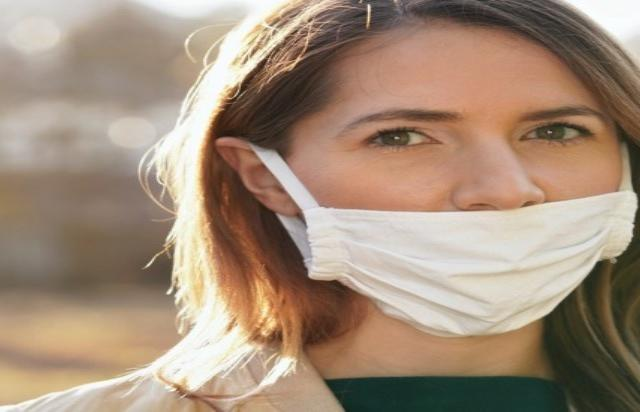mask_weared_incorrect: (173, 1, 640, 341)
